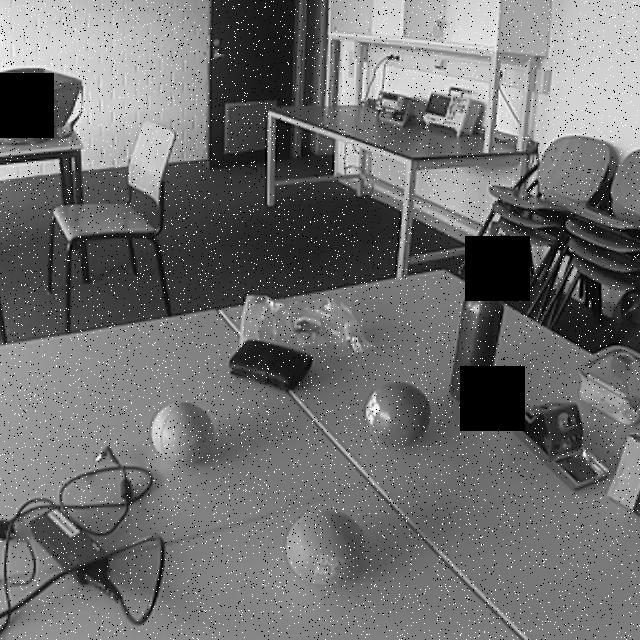ball: (282, 505, 369, 589), (362, 379, 433, 451), (149, 399, 218, 468)
